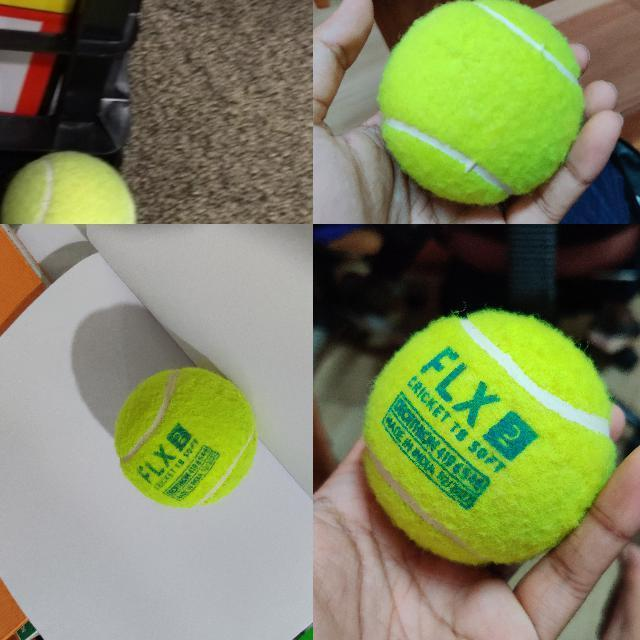tennis-ball: (364, 311, 616, 564), (378, 0, 582, 203), (113, 366, 259, 510), (0, 149, 138, 223)
